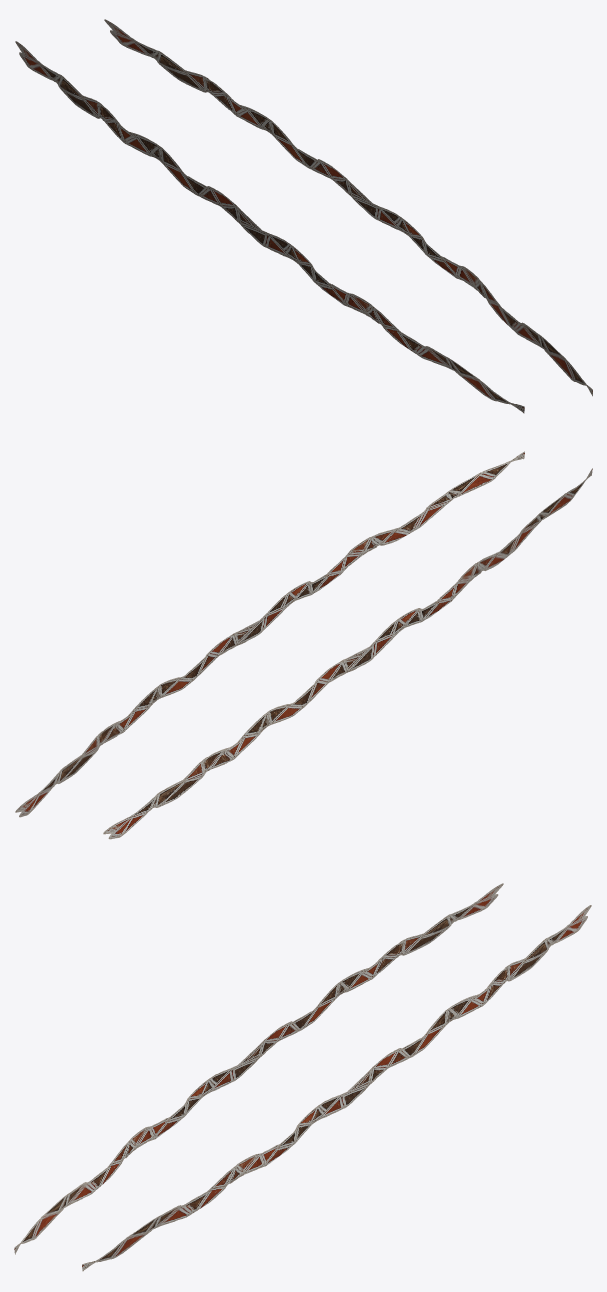
Rendered from canoe_scout_prop.dae.
3 renders of one model, top to bottom at view 1: azimuth 30°, elevation 25°; view 2: azimuth 150°, elevation 25°; view 3: azimuth 330°, elevation 25°, orthographic.
Parts seen in each view (by area): view 1: canoe_scout_prop; view 2: canoe_scout_prop; view 3: canoe_scout_prop.
Boxes of the visible parts, left/top/right/bottom form: canoe_scout_prop: left=15, top=19, right=592, bottom=413; canoe_scout_prop: left=15, top=451, right=592, bottom=839; canoe_scout_prop: left=14, top=883, right=591, bottom=1271.
Bounding box in the file's own units: 2.21 × 17.05 × 0.5817.
